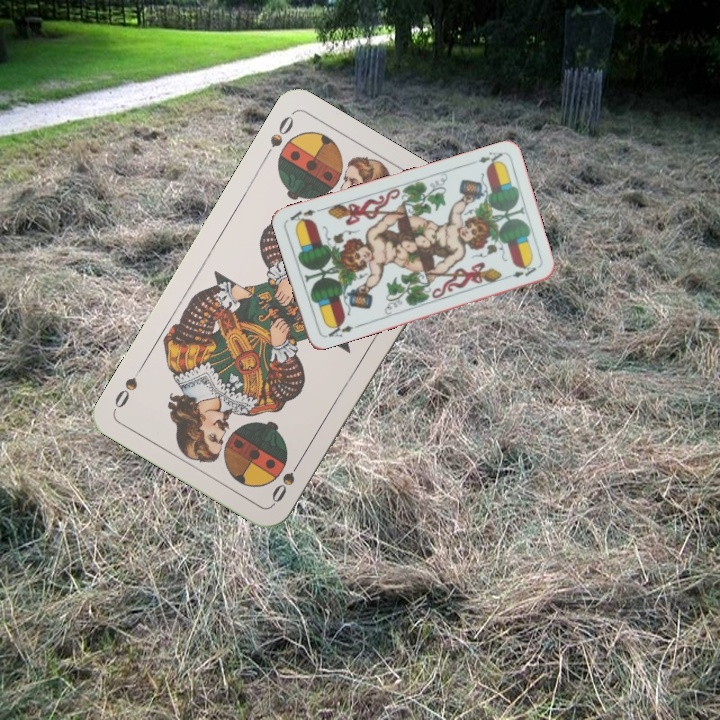EA: (321, 318, 361, 340), (474, 148, 505, 169)
SO: (267, 453, 306, 507), (259, 111, 297, 163)
